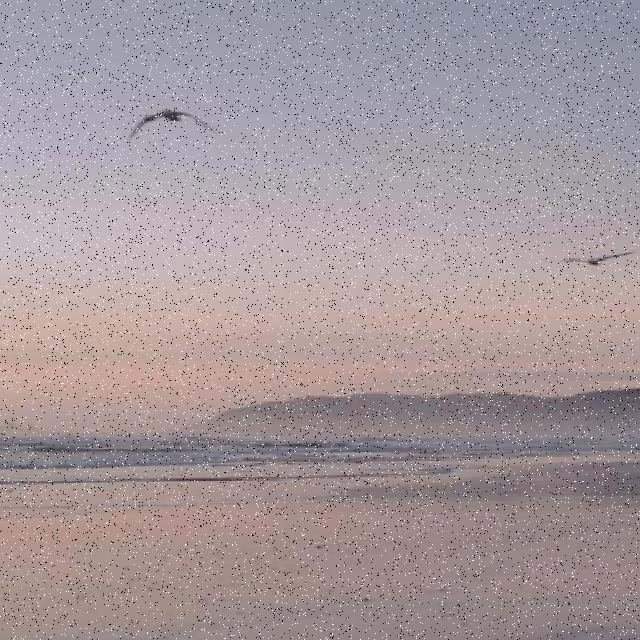bird: (126, 107, 222, 144), (543, 249, 639, 268)
